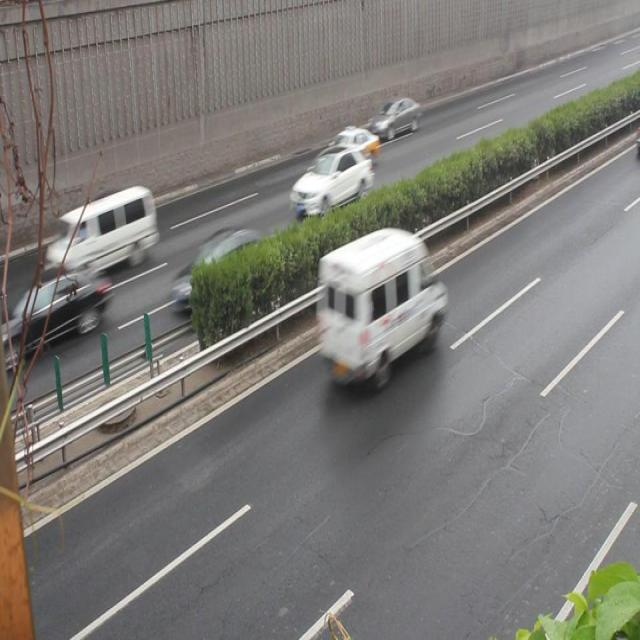car: (316, 229, 445, 385), (172, 228, 284, 314), (13, 267, 111, 353), (289, 147, 372, 214), (314, 126, 379, 171), (367, 97, 420, 138)
truck: (44, 186, 157, 281)
